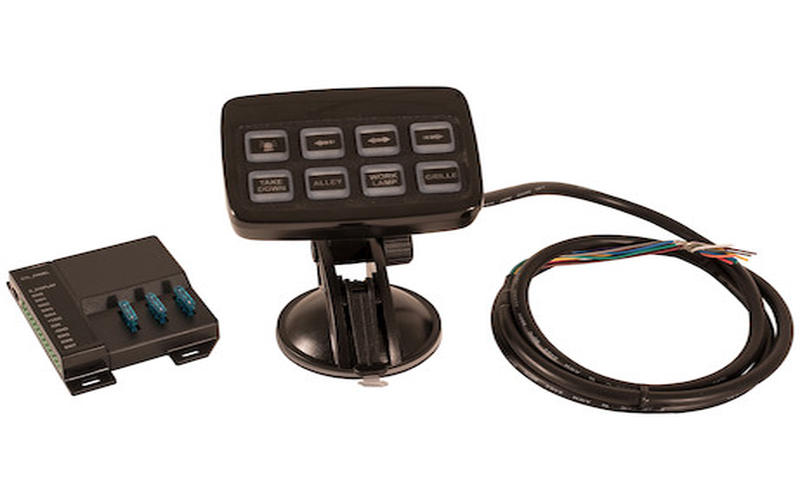Switches: (198, 69, 513, 395), (10, 202, 218, 396)
